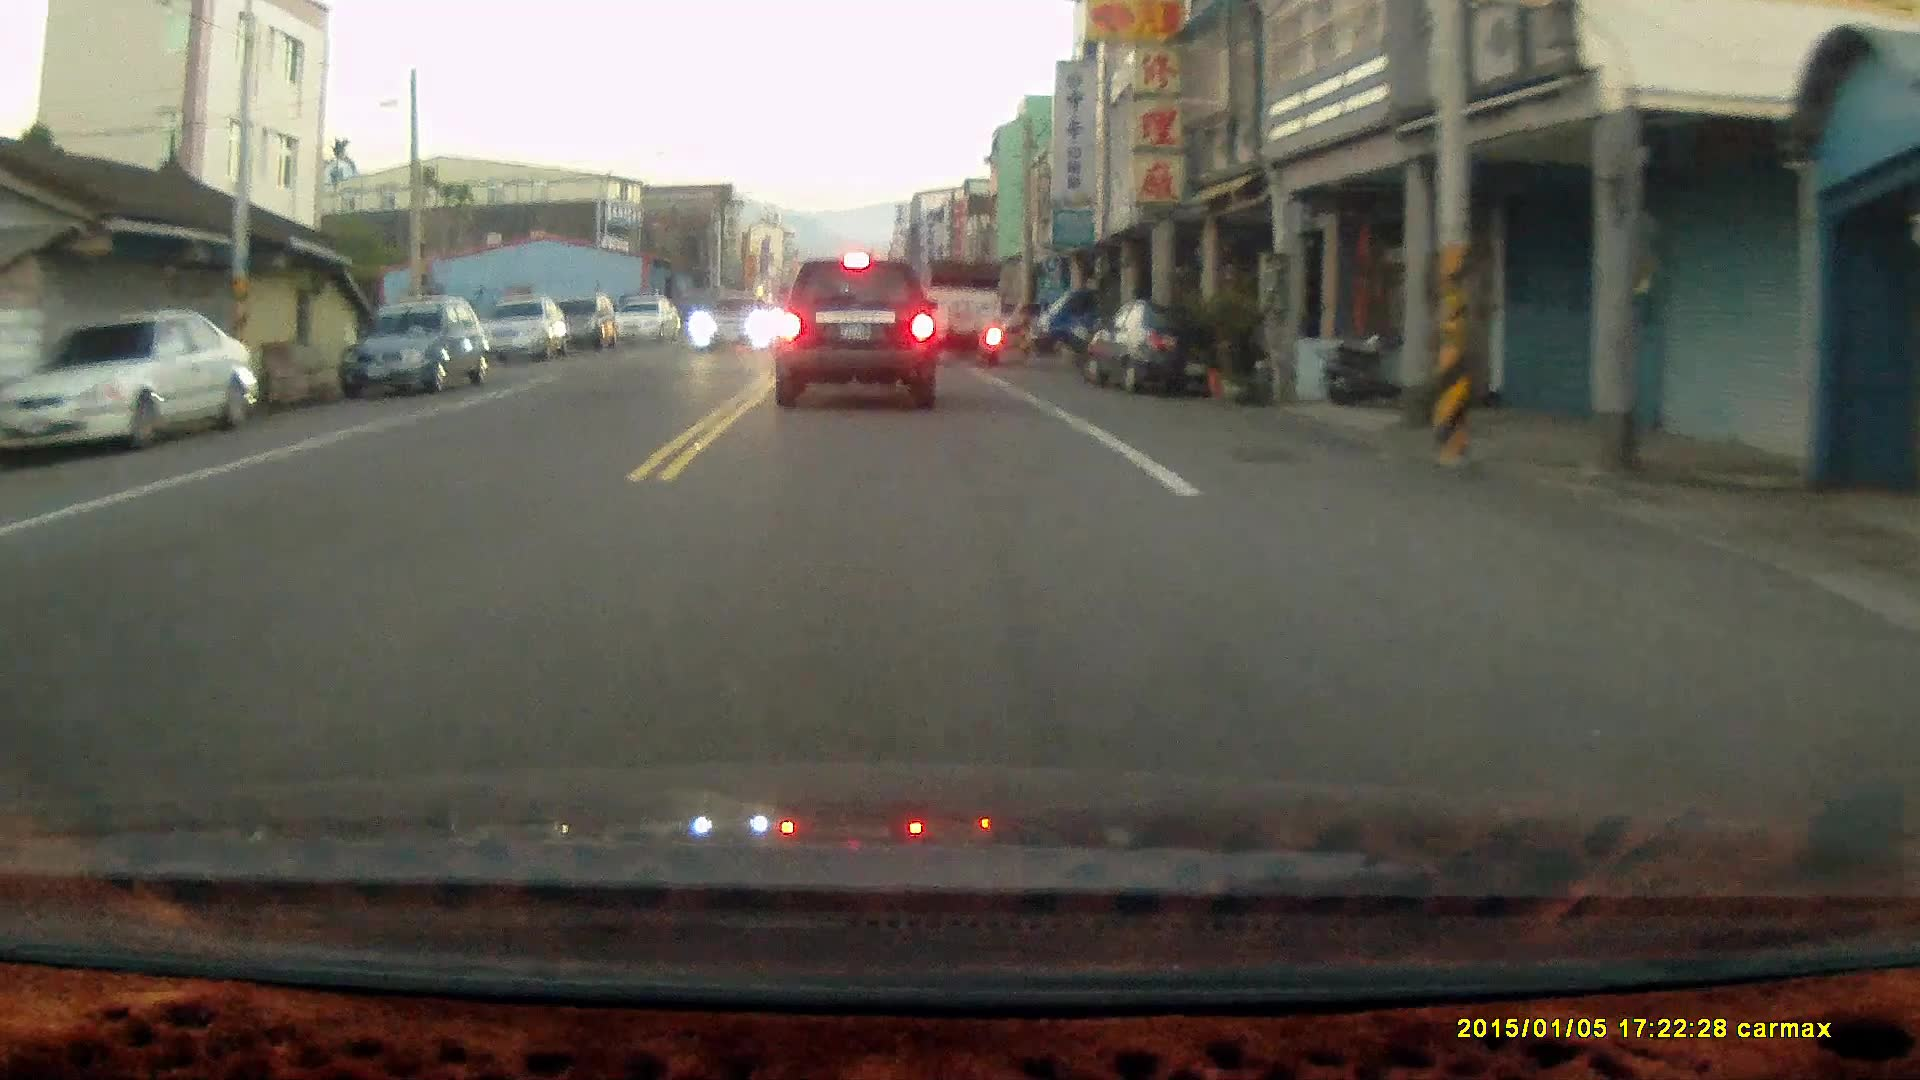vehicle: (1, 309, 256, 454), (774, 253, 938, 410), (1083, 299, 1246, 393), (342, 295, 491, 396), (1033, 280, 1164, 364), (913, 257, 1010, 371), (481, 294, 564, 363), (691, 293, 777, 353), (543, 291, 618, 351), (612, 295, 683, 347)
